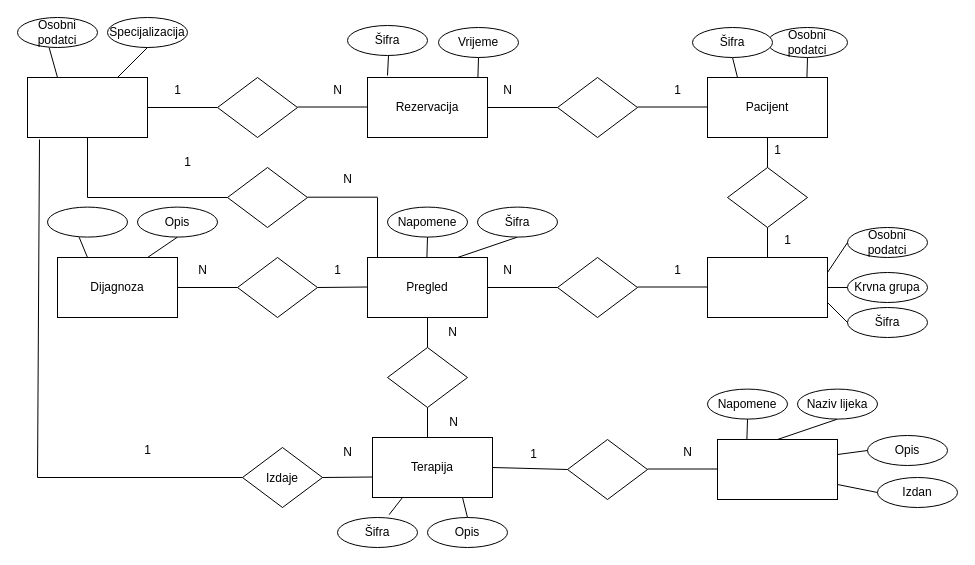
Some shapes in this 975 by 565 pixel diagram are drawn without their labels. The shapes that lost their labels are listed below. From the top down, each one's centre as x and y in pixels, then its label:
At (87,107): "Liječnik".
At (257,107): "Zakazano kod".
At (597,107): "Rezervira".
At (267,197): "Vrši pregled".
At (767,197): "Posjeduje".
At (87,221): "Naziv bolesti".
At (277,287): "Utvrđuje".
At (597,287): "Pregledava".
At (767,287): "Digitalni karton".
At (427,377): "Propisuje".
At (607,469): "Popisuje".
At (777,469): "Recept".
